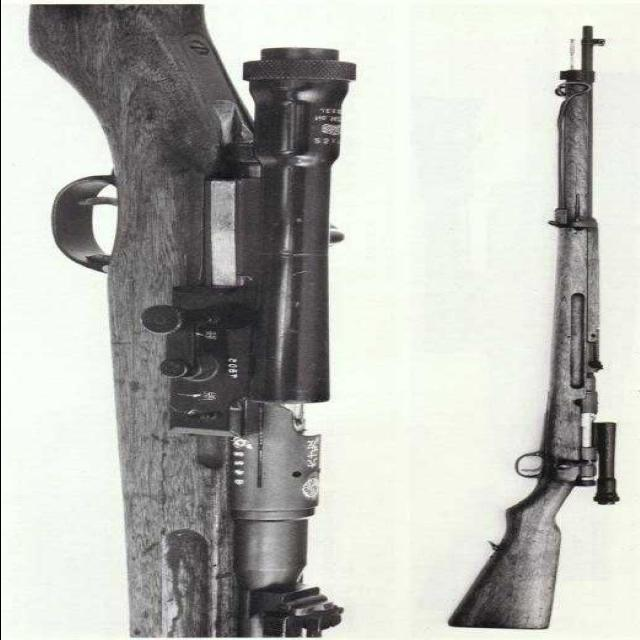heavyweapon: (2, 8, 372, 640), (435, 13, 628, 631)
